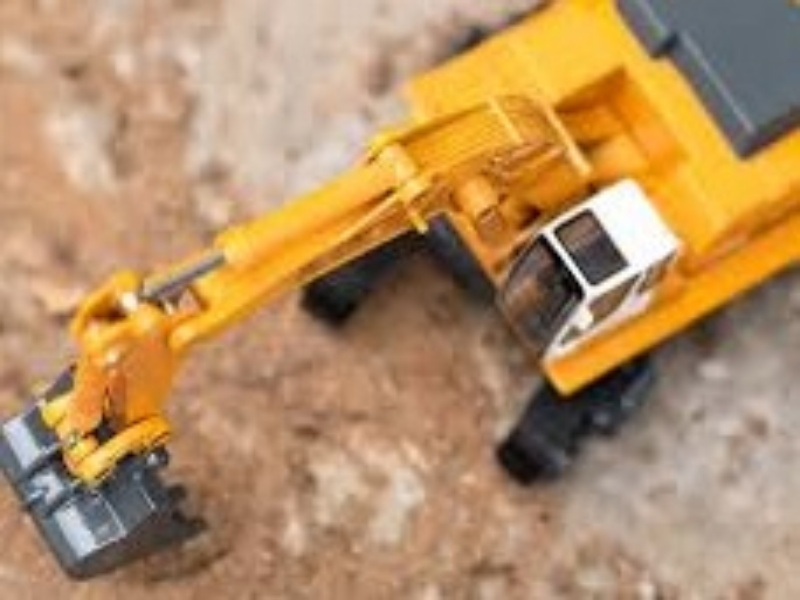wajueji: (262, 7, 800, 485)
